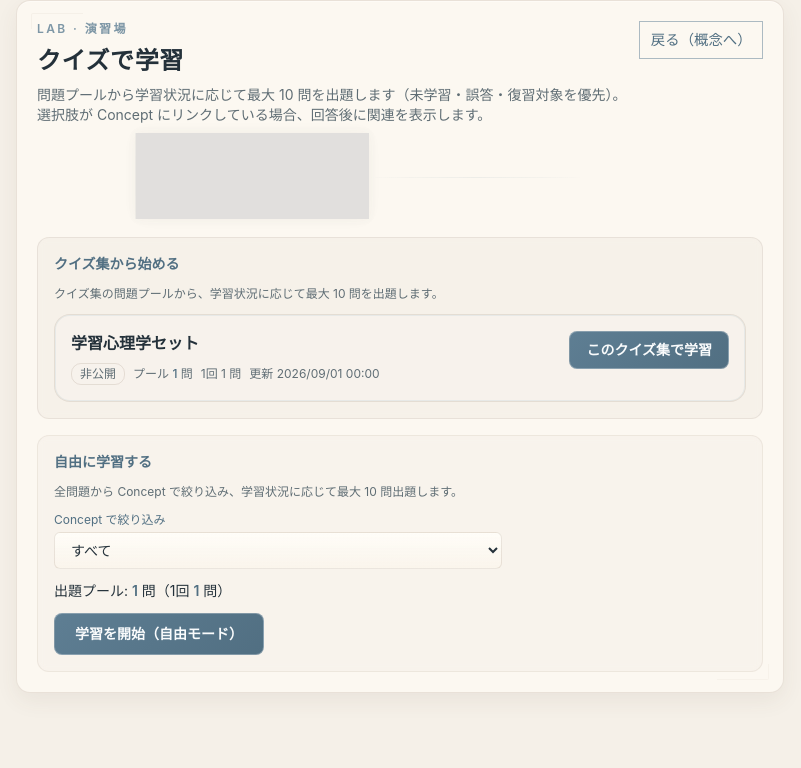
Test: QuizPlayPage 導入 UI 整理 (#174) › feedback でも setup 導入 UI は復活せず、解説と review を維持する
What coordinates should you click on to do the following:
click the button with aria-label "クイズ集「学習心理学セット」で学習を開始"
I would click on:
 (649, 350)
Its box is [569,331,729,369].
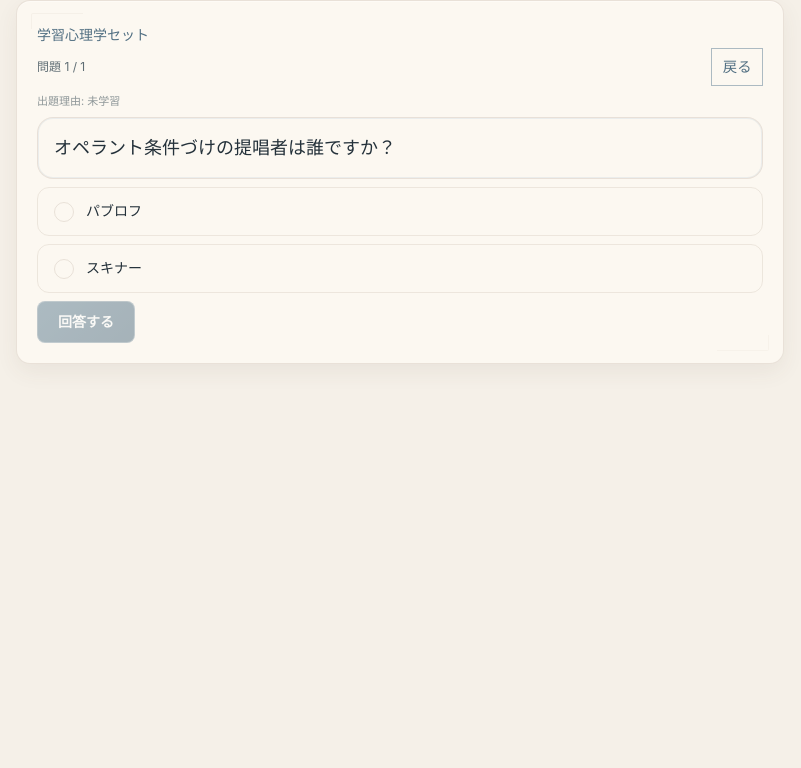
Now the text "オペラント条件づけの提唱者は誰ですか？" is shown, box [54,137,396,158]
What coordinates should you click on to do the following:
click the radio button labelled "パブロフ"
I would click on:
 (114, 211)
Its box is [37,187,763,236].
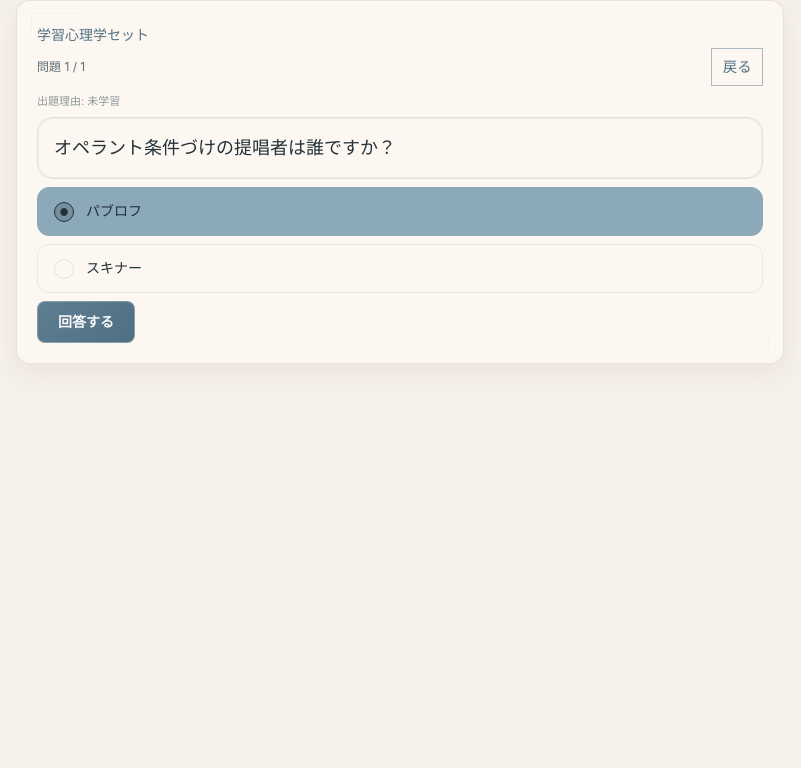
What coordinates should you click on to do the following:
click the button "回答する"
I would click on:
 (86, 322)
Its box is [37,301,135,343].
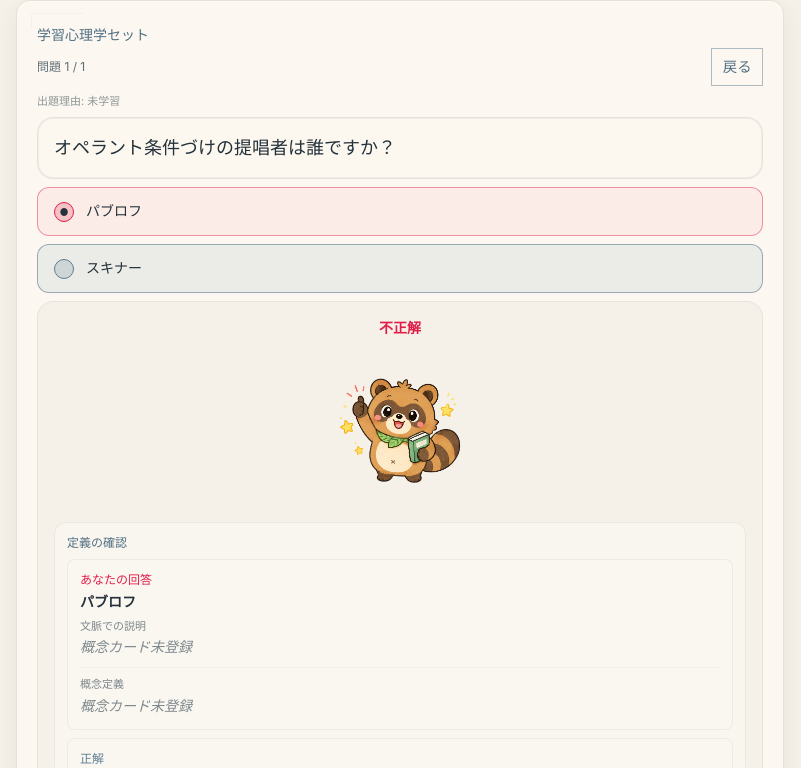
Now the message reads "不正解", box [379,319,421,336]
Now the picture with alt text "不正解時の狸イラスト" is shown, box [320,350,480,510]
Now the text "定義の確認" is shown, box [67,535,127,550]
